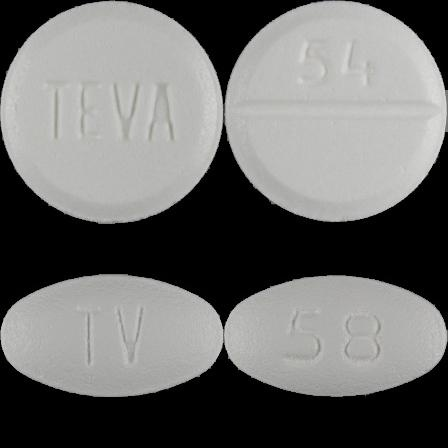0093-0054: (0, 0, 224, 224)
